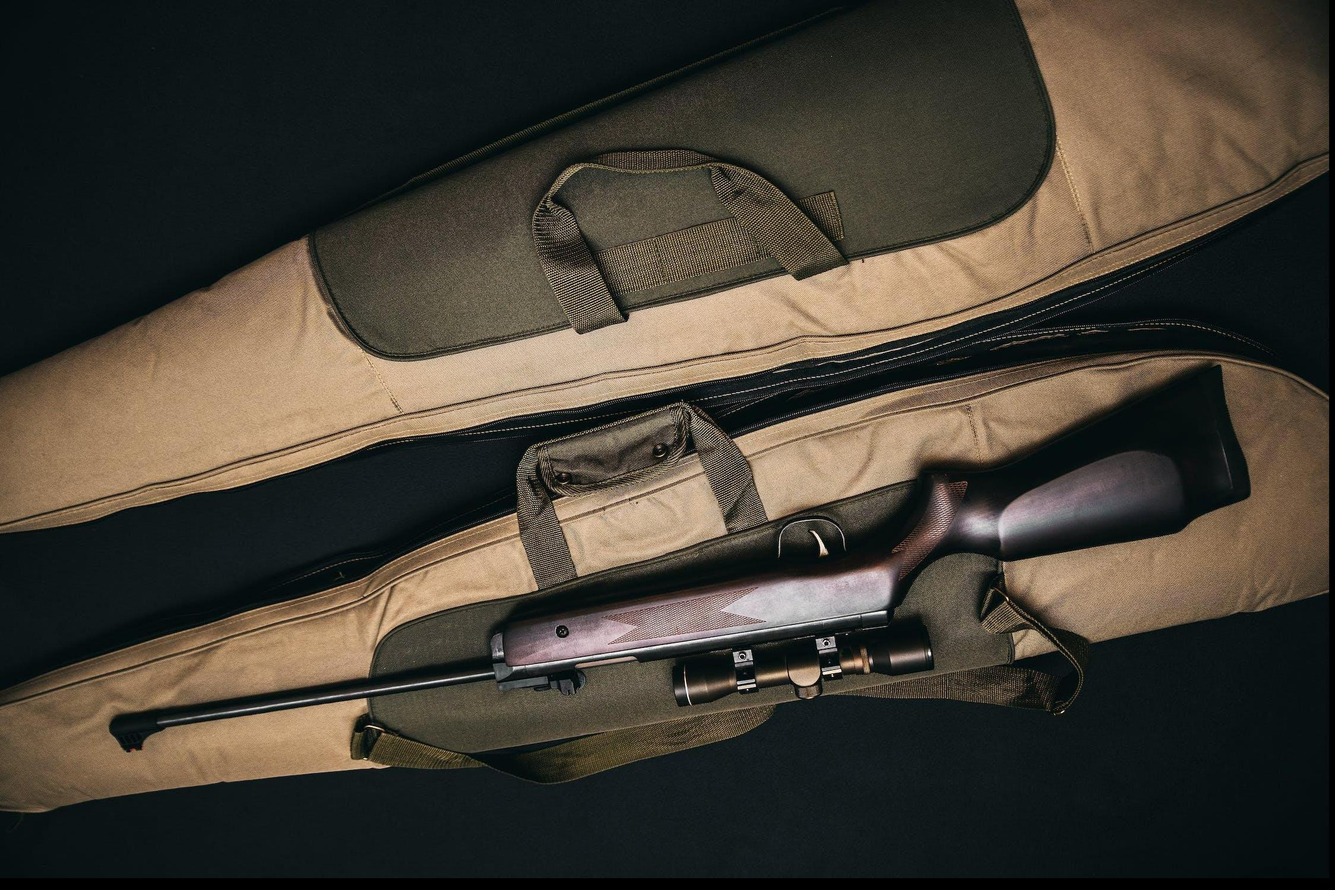larga: (105, 360, 1255, 758)
